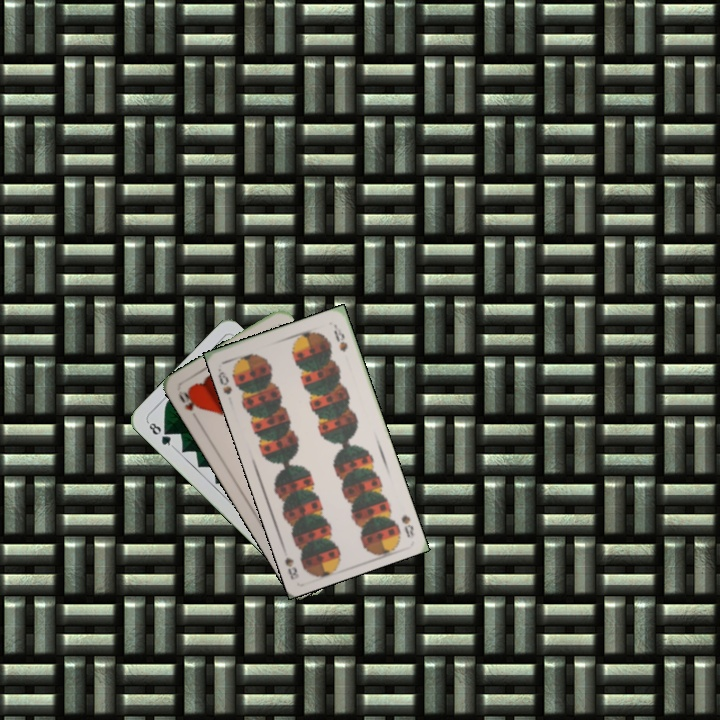G8: (144, 418, 176, 450)
HO: (174, 386, 202, 413)
S8: (214, 364, 234, 397), (397, 511, 416, 540)
